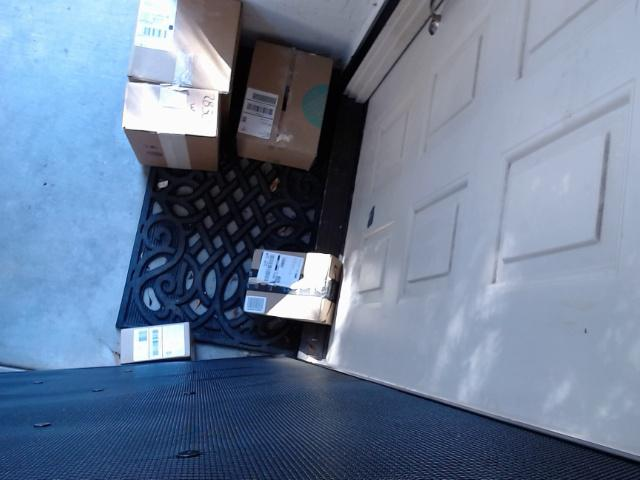box: (239, 19, 334, 165), (108, 76, 228, 191), (111, 2, 246, 83), (241, 243, 349, 339), (90, 309, 232, 361)
